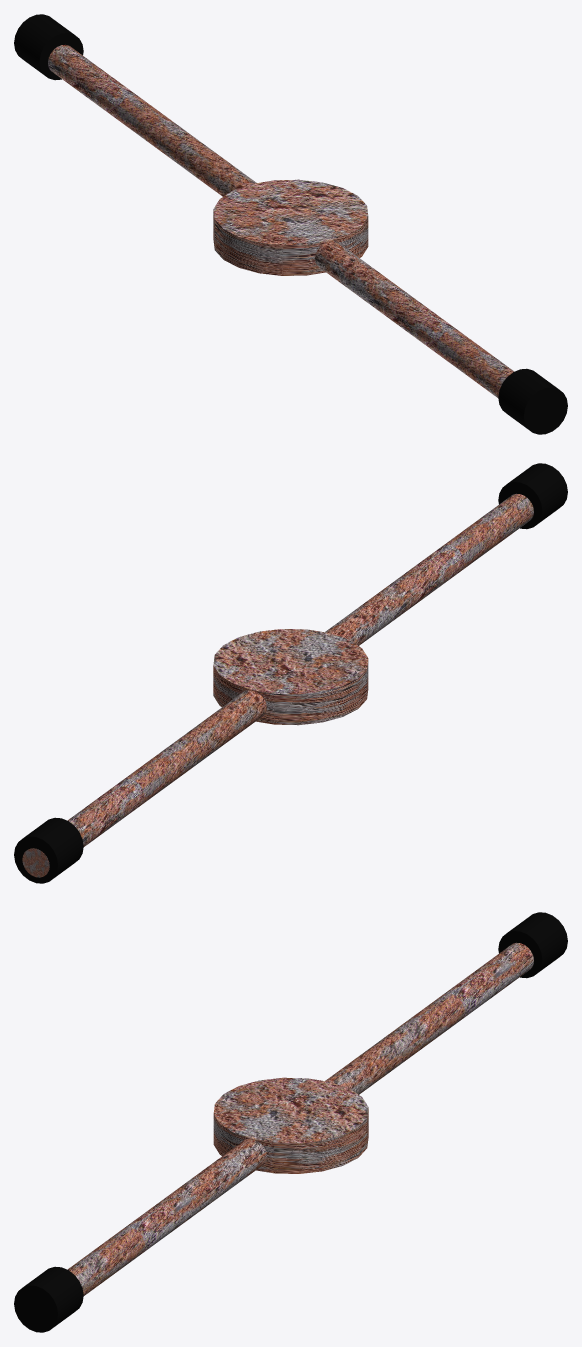
The model's file is lever.fbx.
3 views of the same model, one above another, from view 1: azimuth 30°, elevation 25°; view 2: azimuth 150°, elevation 25°; view 3: azimuth 330°, elevation 25° (orthographic).
Visible parts, largest first — view 1: pCylinder7; view 2: pCylinder7; view 3: pCylinder7.
Boxes of the visible parts, left/top/right/bottom form: pCylinder7: left=14, top=14, right=567, bottom=434; pCylinder7: left=14, top=463, right=567, bottom=883; pCylinder7: left=14, top=912, right=567, bottom=1332.
Size of the model in its own units: 2.74 by 0.8986 by 17.96.
2 materials, 1 textured.
